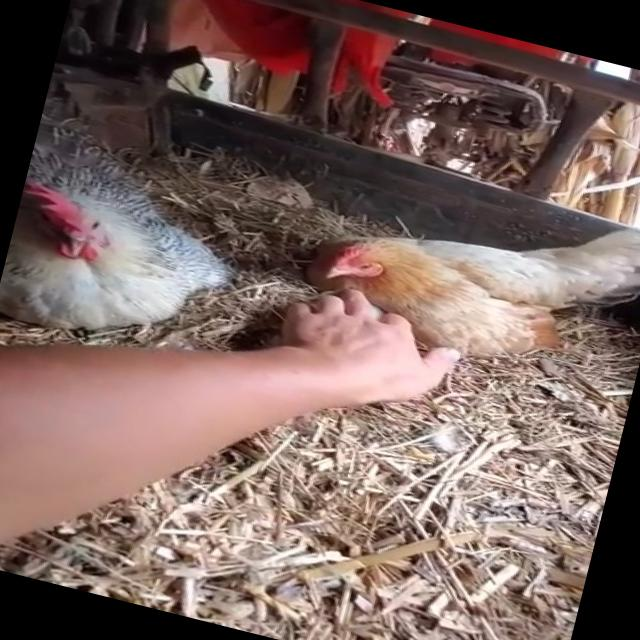crouch chicken: (0, 126, 280, 384), (308, 189, 640, 398)
